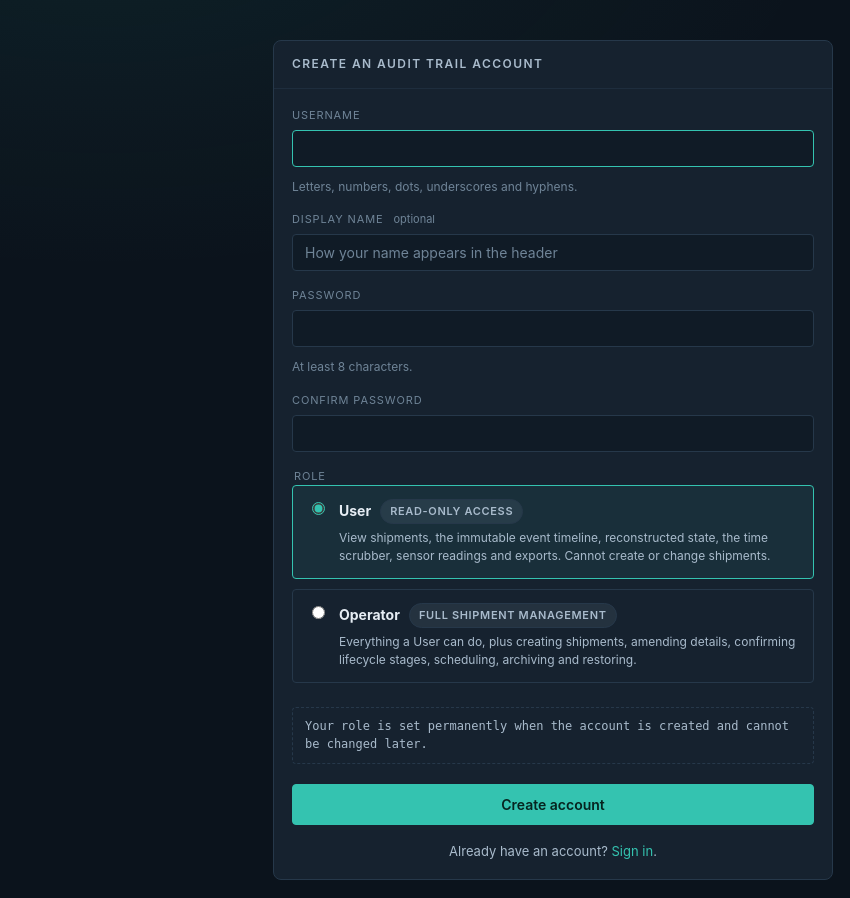
Test: RegisterPage › surfaces a duplicate username against the username field
The width and height of the screenshot is (850, 898).
Type "taken" into the field labelled "Username Letters, numbers, dots, underscores and hyphens." at (553, 148), box [292,130,814,167]
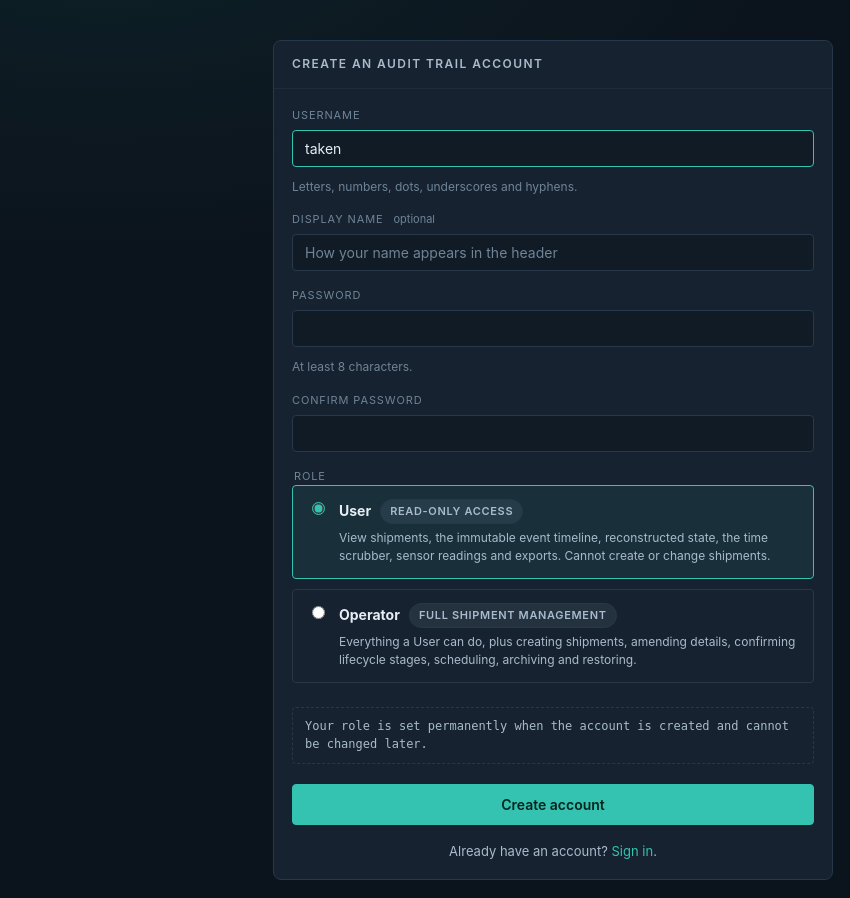
Type "Password123" into the password field labelled "Password At least 8 characters." at (553, 329), box [292,310,814,347]
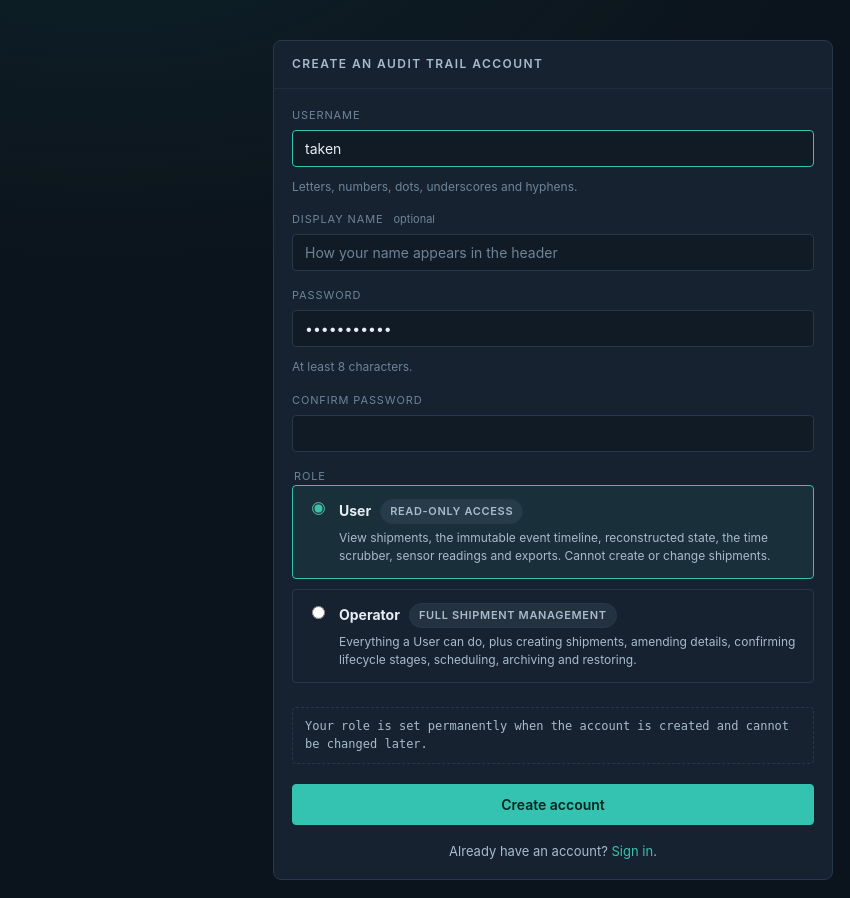
Type "Password123" into the password field labelled "Confirm password" at (553, 433), box [292,415,814,452]
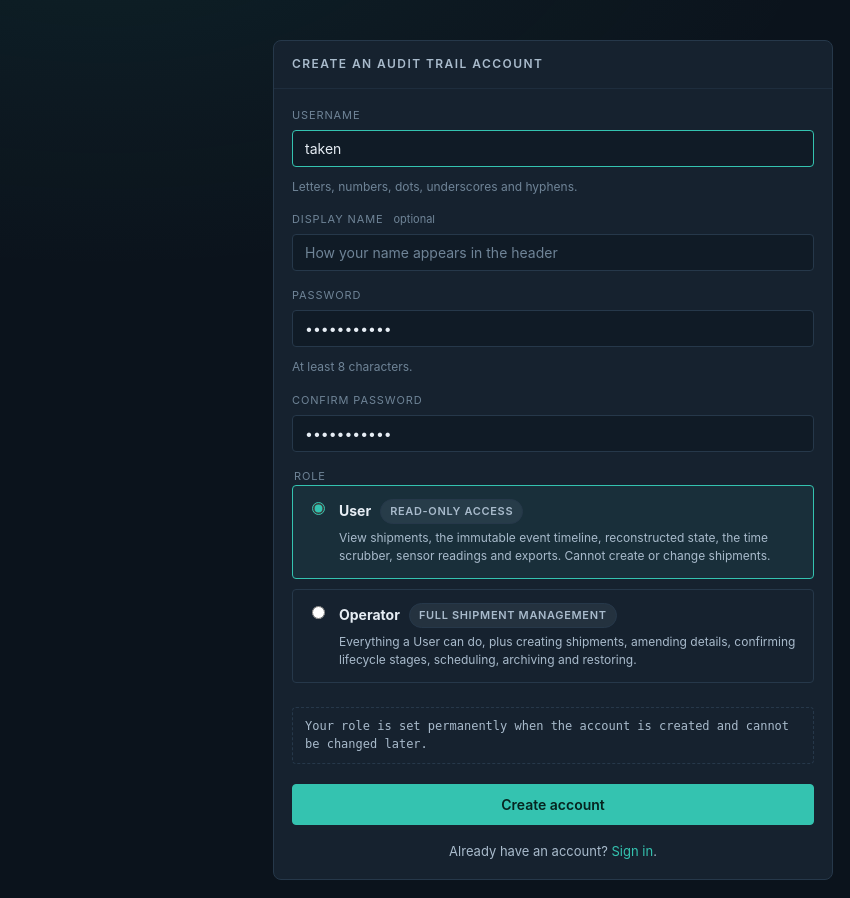
Click the button "Create account" at (553, 804), box [292,784,814,825]
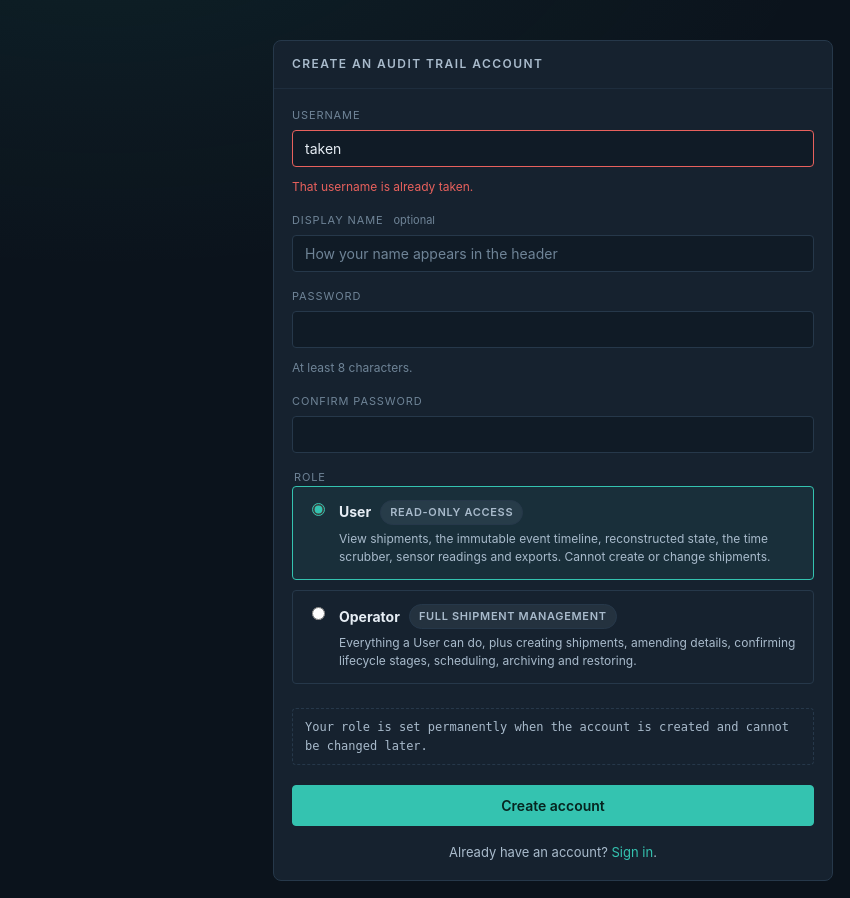
Result: the text "That username is already taken." is shown at [292,179,473,194]
